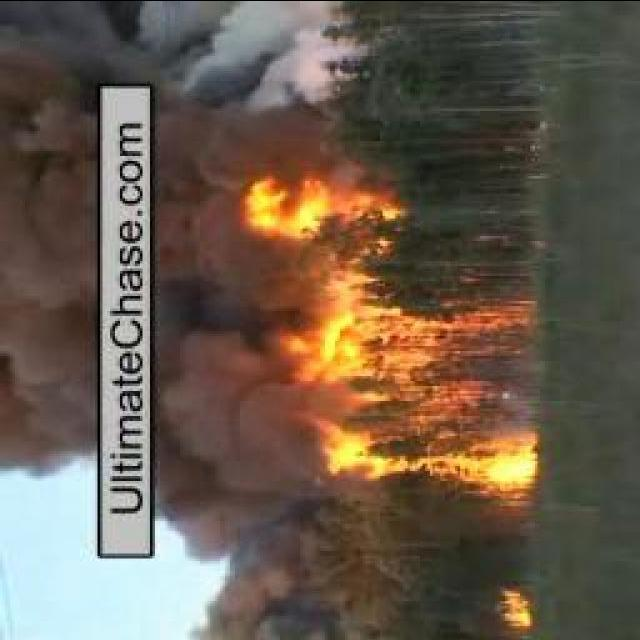Fire: (302, 295, 540, 492), (230, 167, 402, 244), (487, 582, 531, 626)
